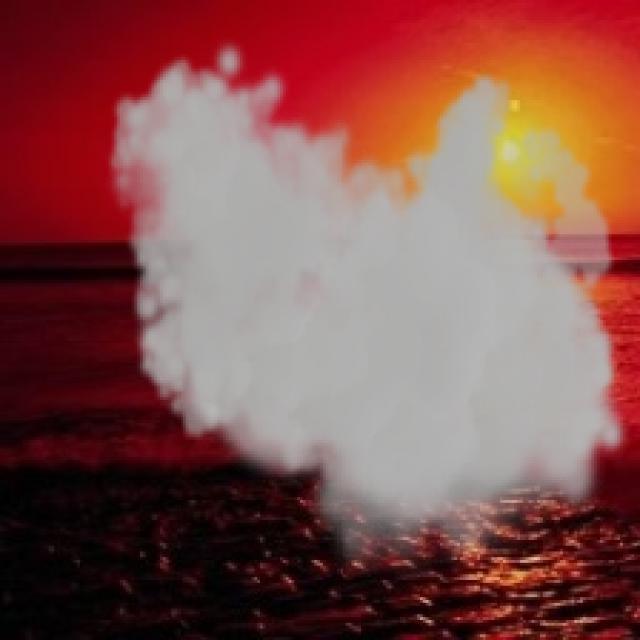Smoke: (106, 37, 632, 580)
